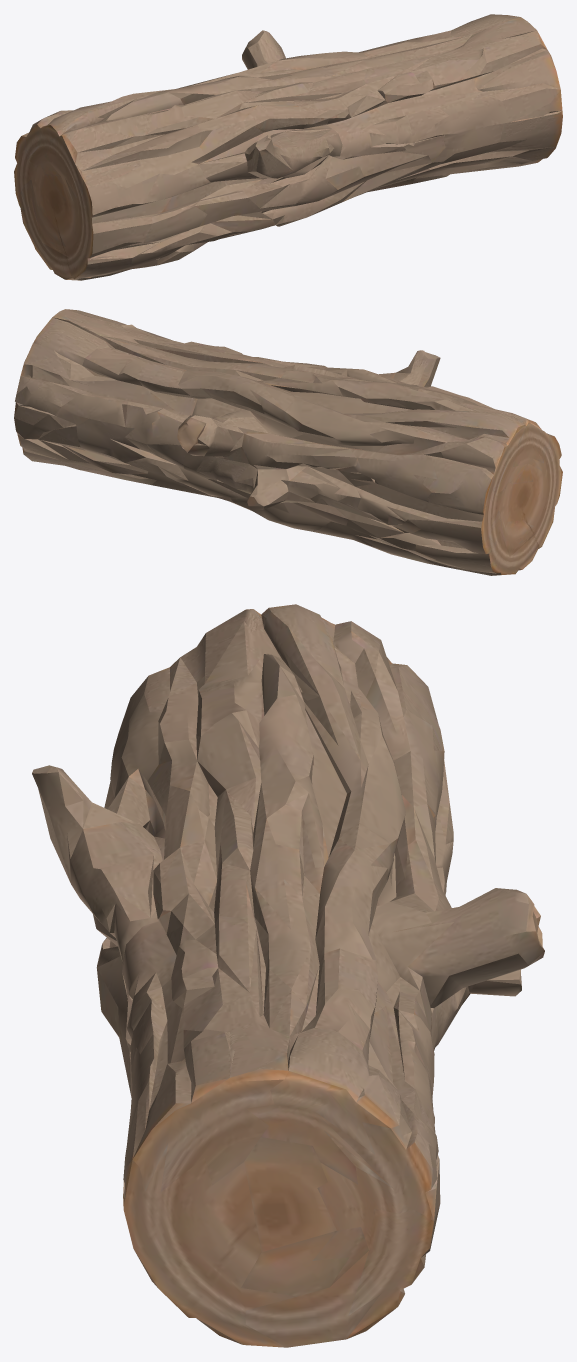
File: log-bench.glb
3 views of the same model, one above another, from view 1: azimuth 30°, elevation 25°; view 2: azimuth 150°, elevation 25°; view 3: azimuth 270°, elevation 25° (orthographic). The views are drawn at different scales.
Size of the model in its own units: 1.89 by 0.6074 by 0.8927.
1 material, 1 textured.
